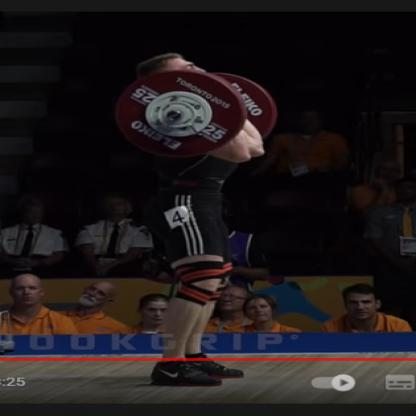Barbell: (111, 64, 255, 162)
